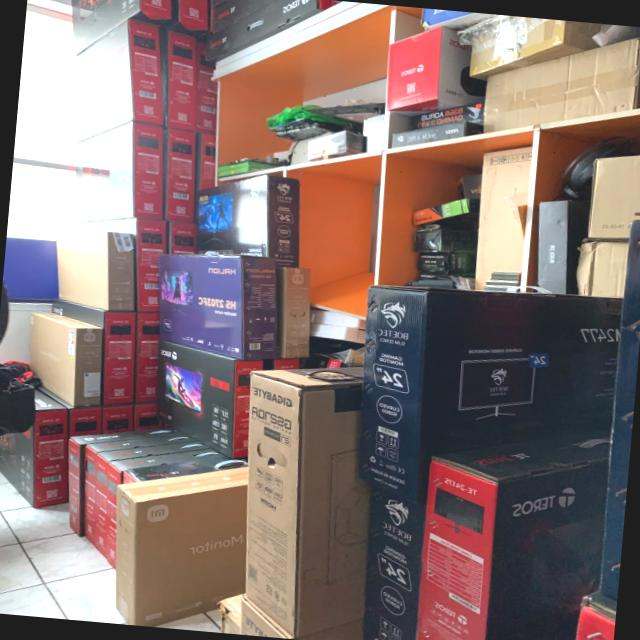caja-monitor: (359, 282, 623, 506), (413, 429, 609, 640), (244, 367, 370, 638), (116, 467, 248, 626), (104, 448, 224, 571), (92, 440, 205, 558), (155, 340, 264, 459), (68, 426, 178, 539), (80, 433, 189, 545), (160, 254, 276, 359), (72, 19, 163, 143), (195, 174, 299, 267), (73, 122, 162, 222), (204, 0, 344, 63), (53, 299, 133, 405), (76, 218, 166, 311), (0, 388, 68, 508), (27, 312, 102, 406), (56, 232, 135, 311), (69, 0, 172, 55), (240, 598, 364, 640), (120, 456, 250, 483), (164, 30, 197, 130), (37, 387, 99, 436), (278, 267, 310, 358), (166, 127, 196, 222), (135, 313, 159, 403), (214, 0, 276, 31), (197, 133, 214, 190), (177, 0, 208, 31), (101, 404, 133, 432), (168, 220, 194, 254)
